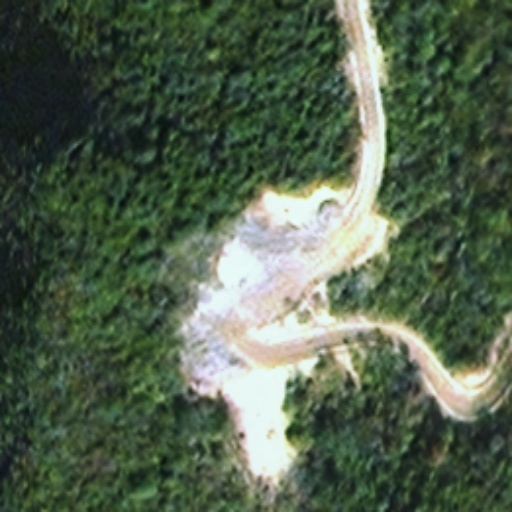landslide: (190, 362, 302, 483)
